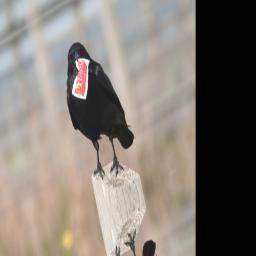Crow: (57, 18, 140, 198)
